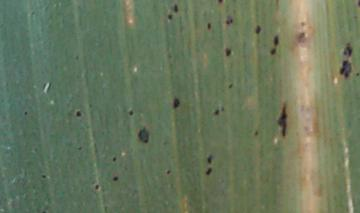tarspot: (275, 100, 288, 138), (136, 125, 150, 145), (338, 59, 352, 79), (342, 40, 354, 59), (171, 96, 180, 110), (223, 46, 232, 59), (205, 153, 215, 164), (254, 23, 263, 35), (204, 166, 214, 176), (272, 34, 280, 46), (74, 109, 83, 119), (269, 47, 278, 56), (172, 3, 180, 13), (224, 18, 234, 26), (205, 20, 212, 31), (166, 13, 174, 22), (165, 167, 172, 177), (93, 182, 100, 191), (111, 155, 118, 164), (252, 129, 259, 137), (127, 109, 134, 117), (111, 175, 119, 182), (212, 108, 220, 115), (226, 83, 234, 89), (75, 145, 83, 151), (40, 173, 47, 179), (22, 110, 28, 116), (220, 105, 225, 112), (354, 71, 360, 76), (216, 1, 225, 4), (357, 1, 360, 9)
